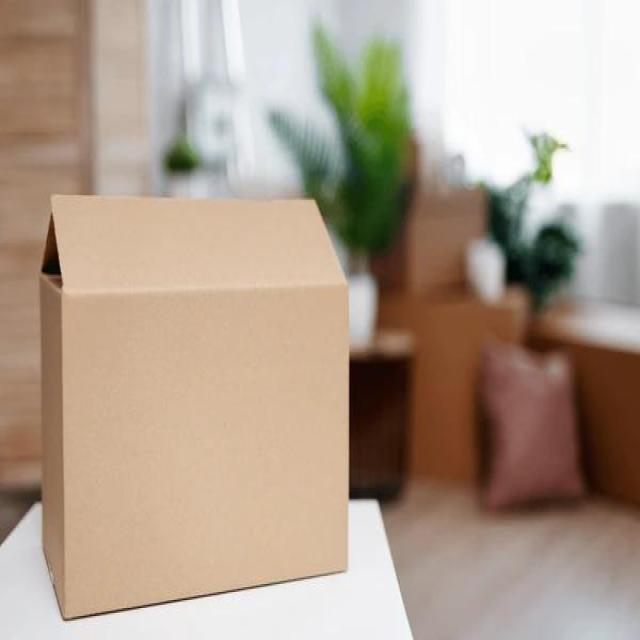box: (36, 194, 357, 625)
